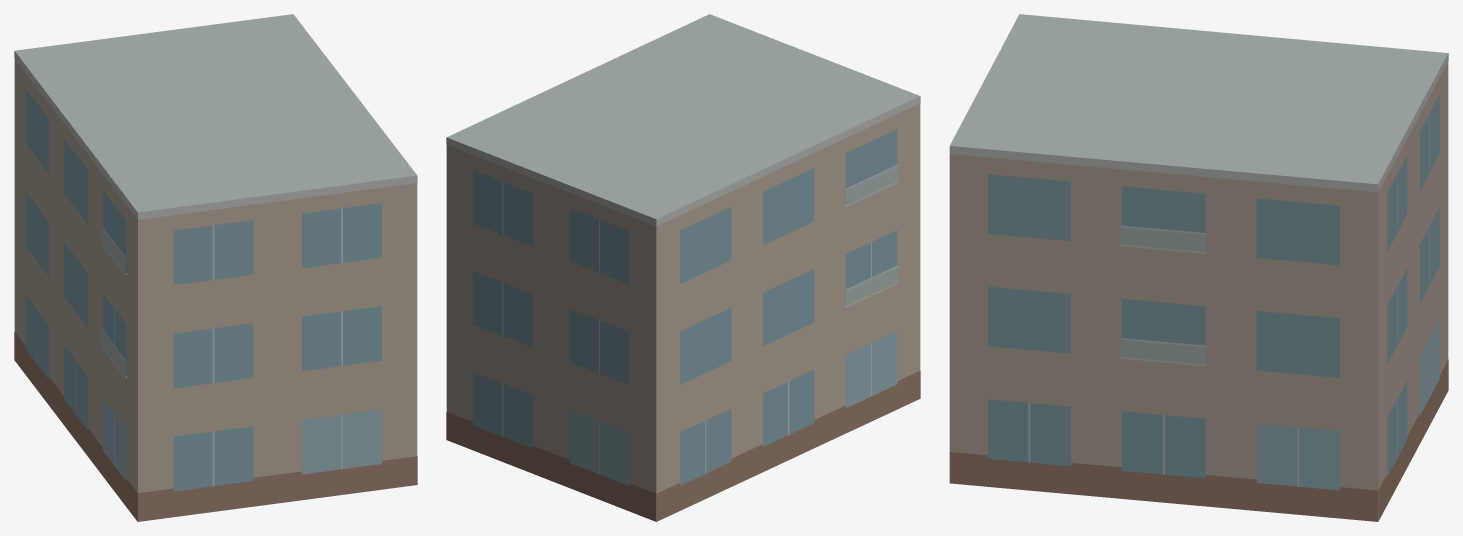
File: survey-upis-32741418.glb
The picture shows the model from 3 angles, left to right: view 1: azimuth 30°, elevation 25°; view 2: azimuth 150°, elevation 25°; view 3: azimuth 270°, elevation 25°; orthographic projection. The views are drawn at different scales.
Parts seen in each view (by area): view 1: survey-upis-32741418.tmp; view 2: survey-upis-32741418.tmp; view 3: survey-upis-32741418.tmp.
Part boxes in pixels (x1=…): survey-upis-32741418.tmp: x1=14, y1=14, x2=417, y2=521; survey-upis-32741418.tmp: x1=446, y1=14, x2=920, y2=521; survey-upis-32741418.tmp: x1=949, y1=14, x2=1448, y2=521.
Size of the model in its own units: 11.05 by 10.2 by 13.67.
